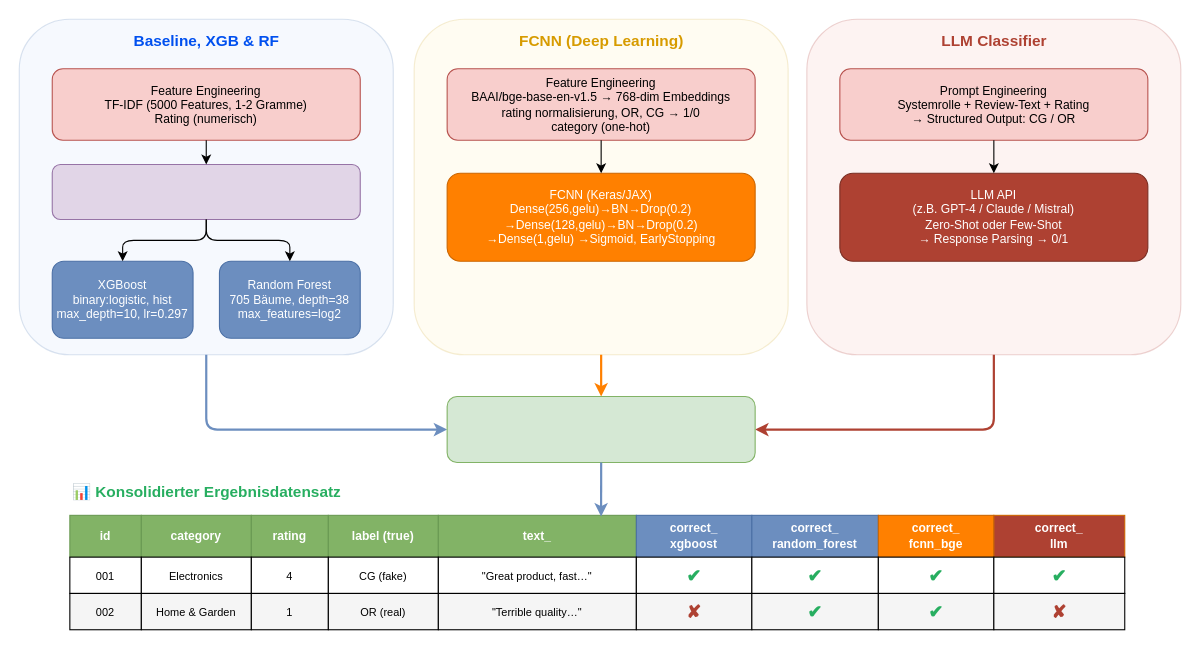
Image size: 1200x649. Some labels were removed from this diagram. Each missing label, with the centre of its shape:
Classification Report + Output Precision · Recall · F1 · Konfusionsmatrix: [600,429]
Optuna Hyperparameter-Tuning 30 Trials, maximize Accuracy: [205,191]
